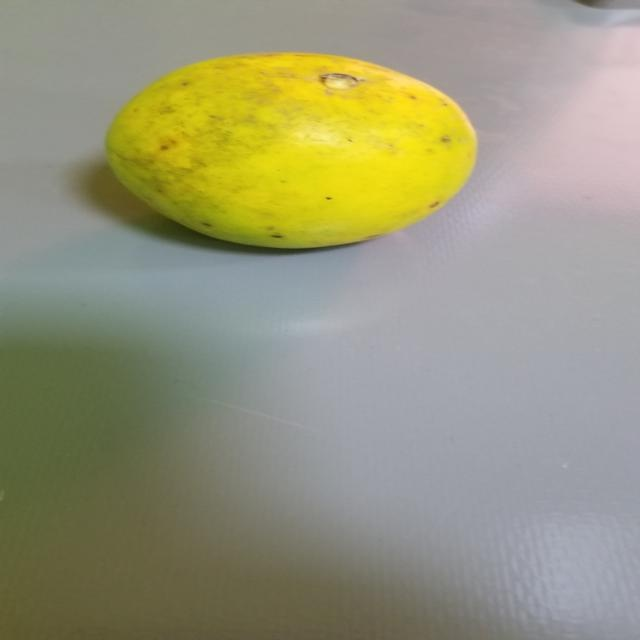agrume: (102, 48, 510, 252)
